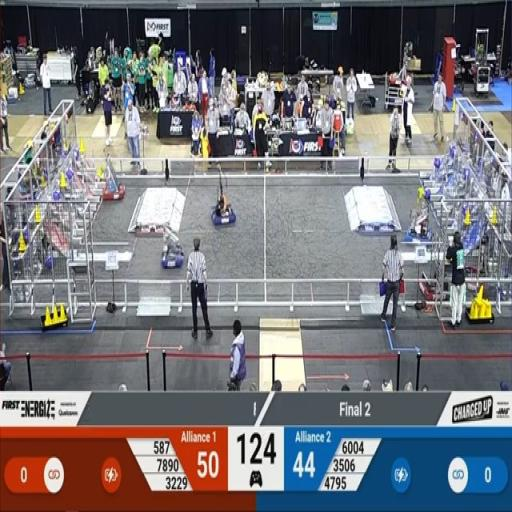robot: (403, 186, 435, 247), (418, 242, 448, 301), (211, 163, 236, 227), (101, 148, 125, 202), (160, 222, 184, 269), (464, 249, 486, 293)
